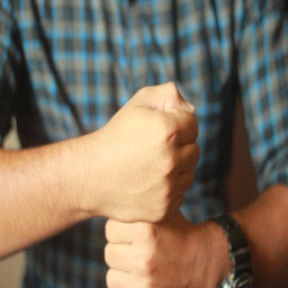G: (94, 79, 202, 288)
